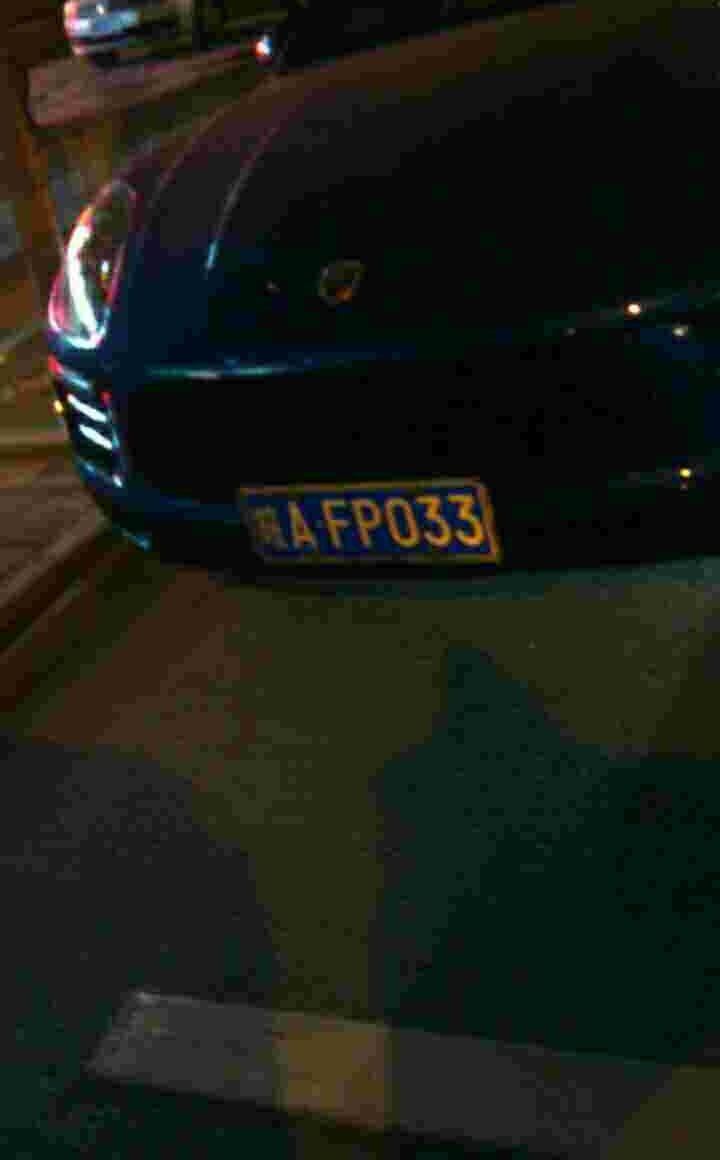plate: (235, 478, 505, 567)
